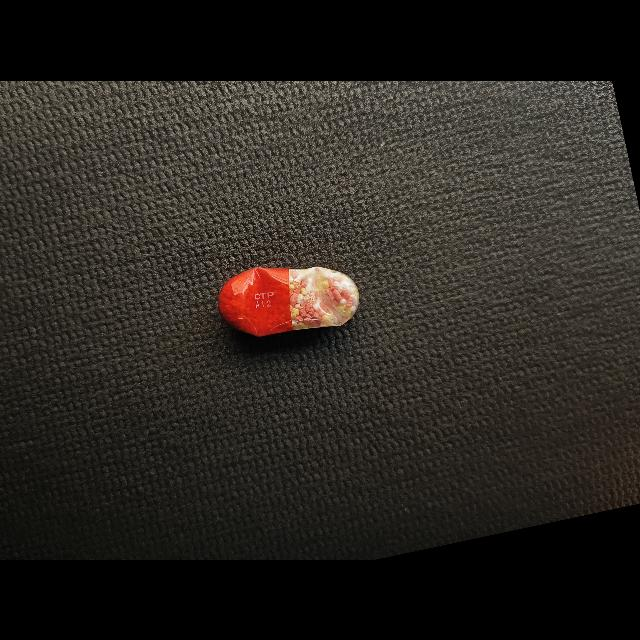Defective Capsule: (218, 266, 359, 336)
